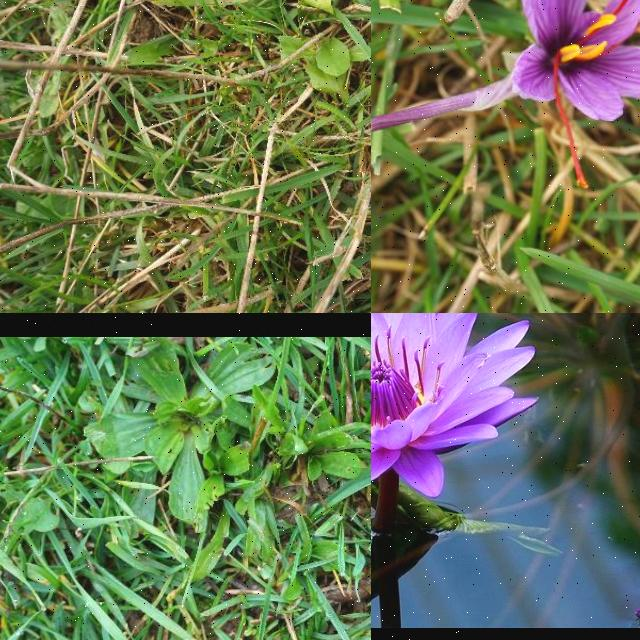flower: (511, 0, 640, 190)
